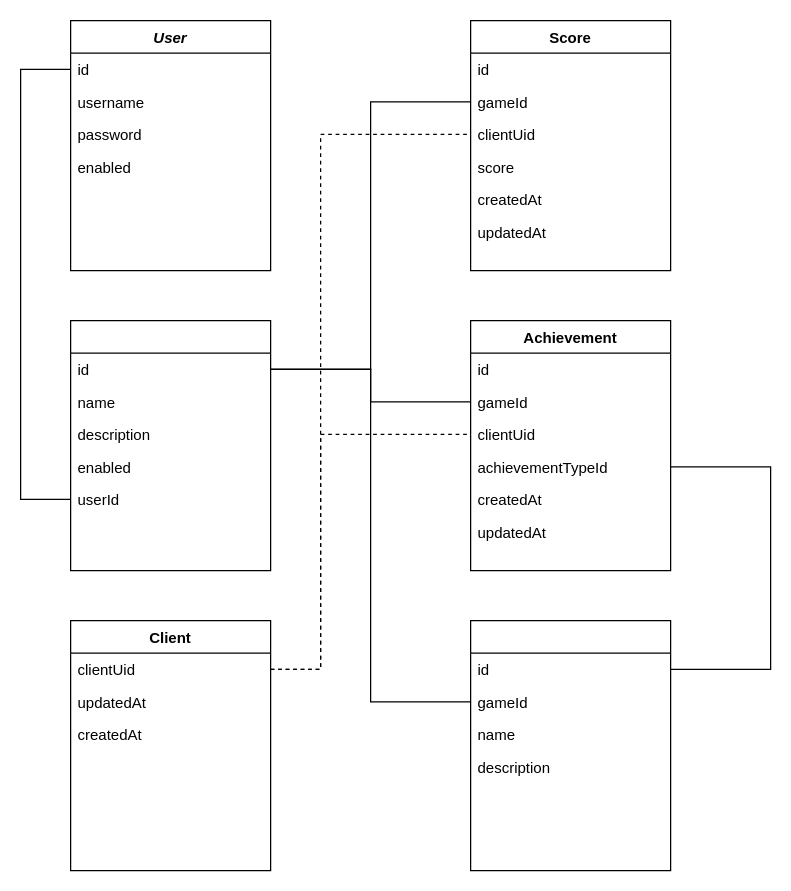
This 791x891 diagram has some shape labels left out. Each missing label, with the box of its shape:
AchievementType: (469, 619, 671, 871)
Game: (69, 319, 271, 571)
